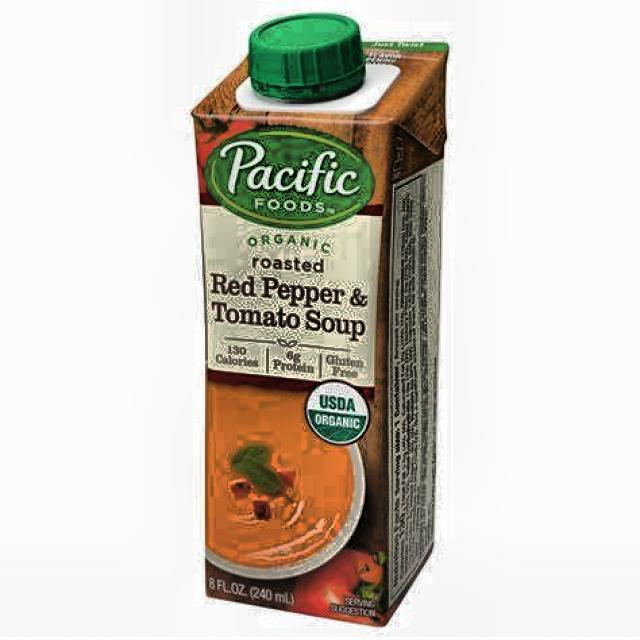cardboard: (190, 22, 448, 628)
